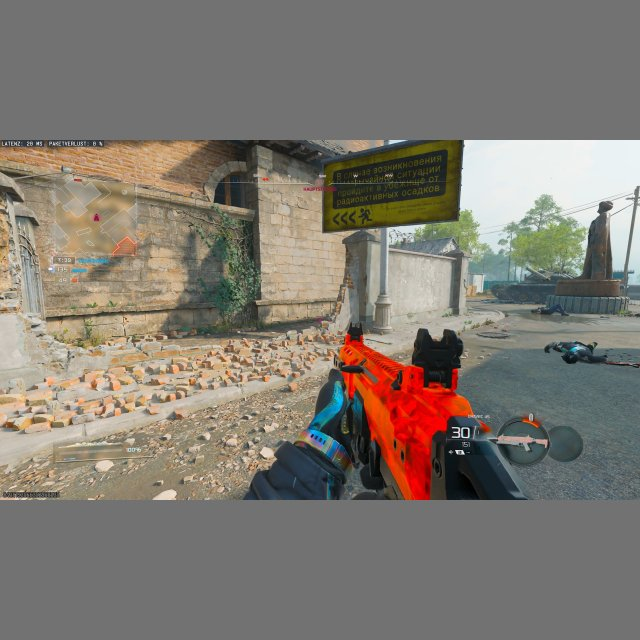player: (544, 339, 638, 366)
